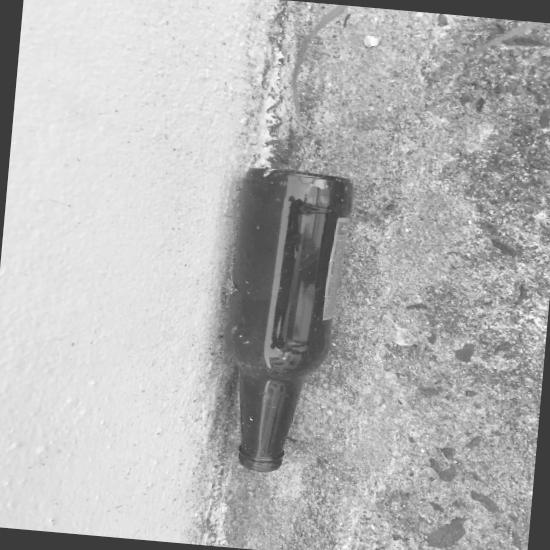Cigarette: (328, 52, 338, 61), (341, 293, 347, 305), (335, 62, 340, 72), (405, 42, 408, 48)
Disposable plastic cup: (329, 166, 369, 210)
Plastic lid: (328, 200, 368, 220)
Plastic straw: (340, 209, 353, 235)
